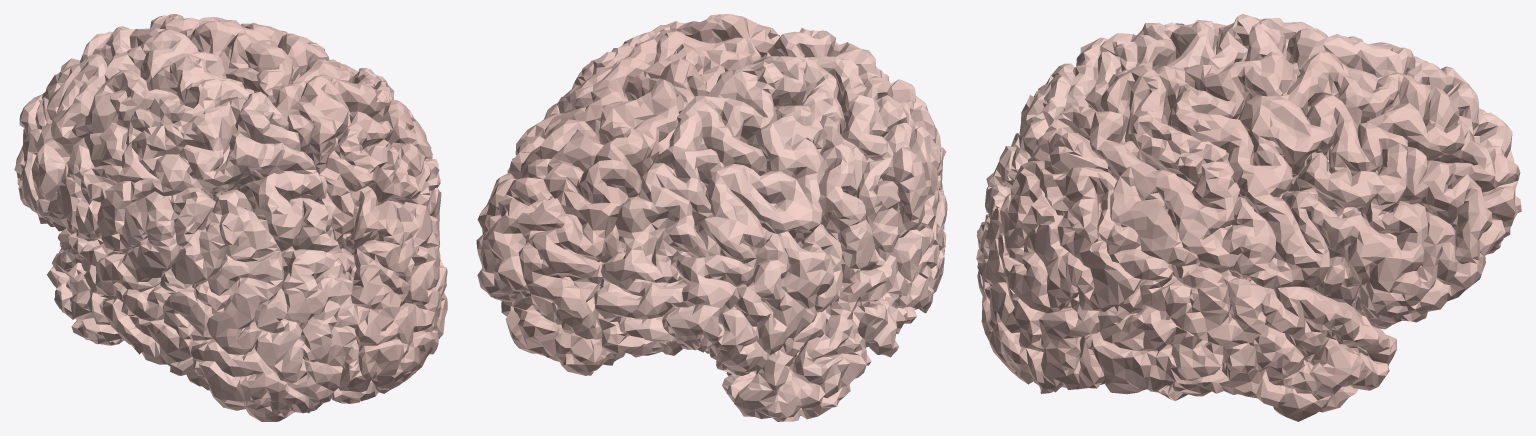
The model's file is real_cortical_brain.glb.
3 renders of one model, left to right at view 1: azimuth 30°, elevation 25°; view 2: azimuth 150°, elevation 25°; view 3: azimuth 270°, elevation 25°, orthographic. The views are drawn at different scales.
Parts seen in each view (by area): view 1: LEFT_PIAL_CORTEX_MRI, RIGHT_PIAL_CORTEX_MRI; view 2: LEFT_PIAL_CORTEX_MRI, RIGHT_PIAL_CORTEX_MRI; view 3: RIGHT_PIAL_CORTEX_MRI, LEFT_PIAL_CORTEX_MRI.
Part boxes in pixels (x1,y1,x2,y2): LEFT_PIAL_CORTEX_MRI: [14, 26, 358, 421]; RIGHT_PIAL_CORTEX_MRI: [150, 14, 447, 403]; LEFT_PIAL_CORTEX_MRI: [594, 27, 947, 421]; RIGHT_PIAL_CORTEX_MRI: [476, 14, 779, 375]; RIGHT_PIAL_CORTEX_MRI: [980, 51, 1521, 421]; LEFT_PIAL_CORTEX_MRI: [976, 14, 1514, 295].
Bounding box in the file's own units: 132 × 110 × 169.
